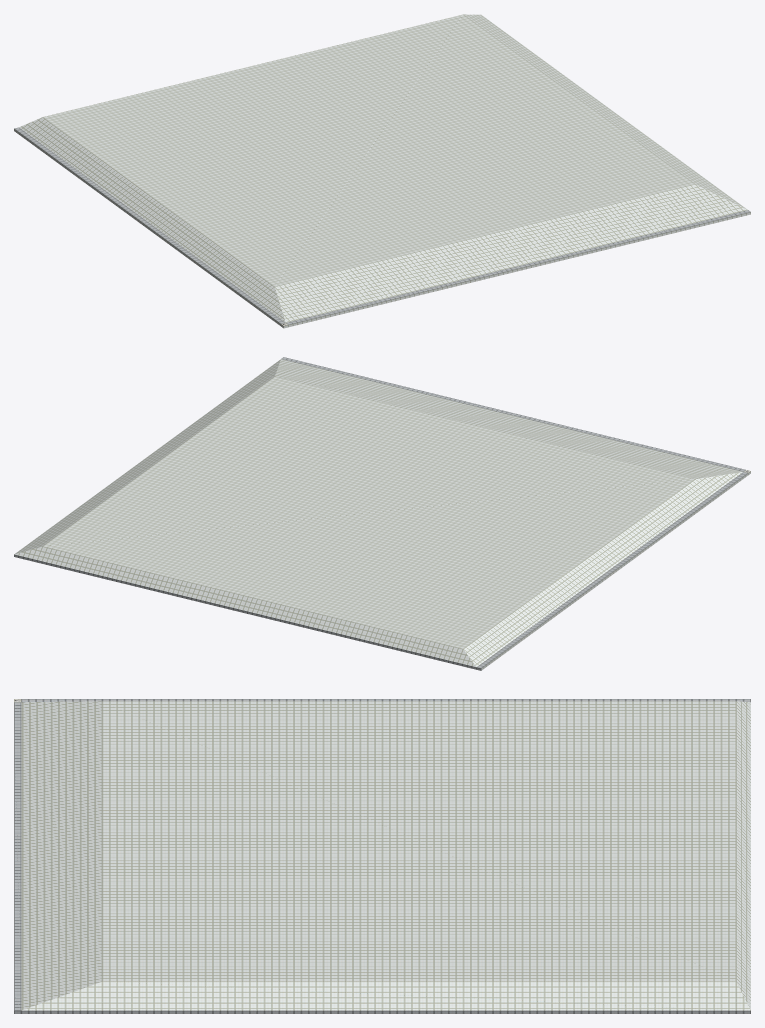
The model's file is Brick Hill 2m 100x100.fbx.
3 renders of one model, top to bottom at view 1: azimuth 30°, elevation 25°; view 2: azimuth 150°, elevation 25°; view 3: azimuth 270°, elevation 25°, orthographic. The views are drawn at different scales.
Parts seen in each view (by area): view 1: Cube; view 2: Cube; view 3: Cube.
Boxes of the visible parts, <box> form: Cube: <box>14,14,750,328</box>; Cube: <box>14,357,750,670</box>; Cube: <box>14,699,750,1013</box>.
Bounding box in the file's own units: 10000 × 250 × 10000.
